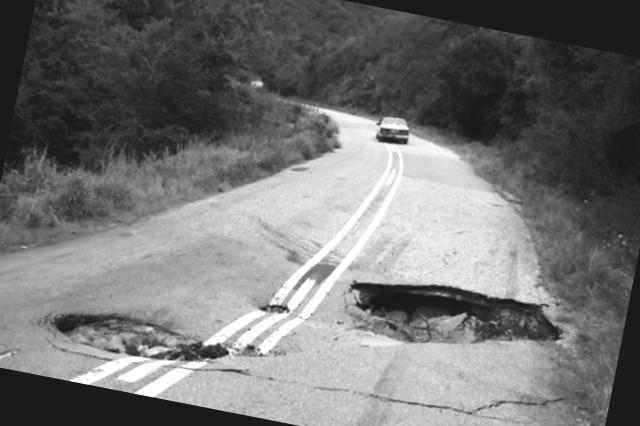Pothole: (319, 255, 584, 391), (25, 283, 258, 398), (224, 274, 319, 338)
